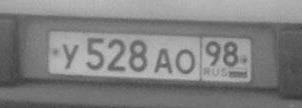license-plateSW: (47, 28, 252, 83)
